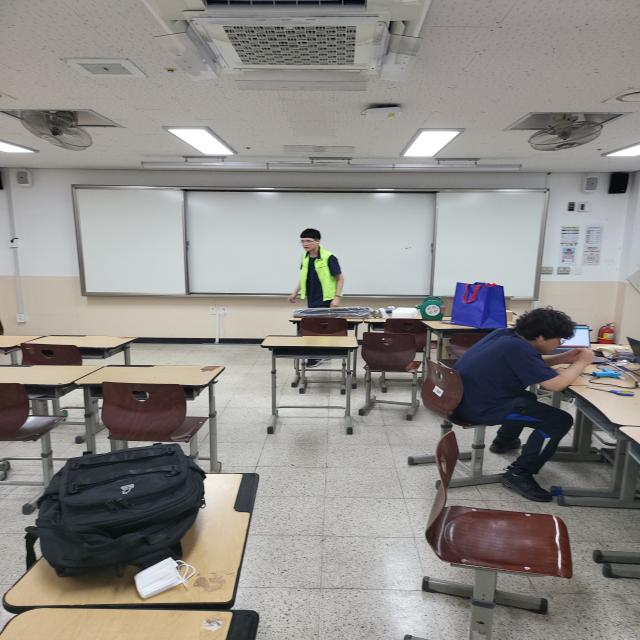weston_spy: (295, 253, 341, 311)
